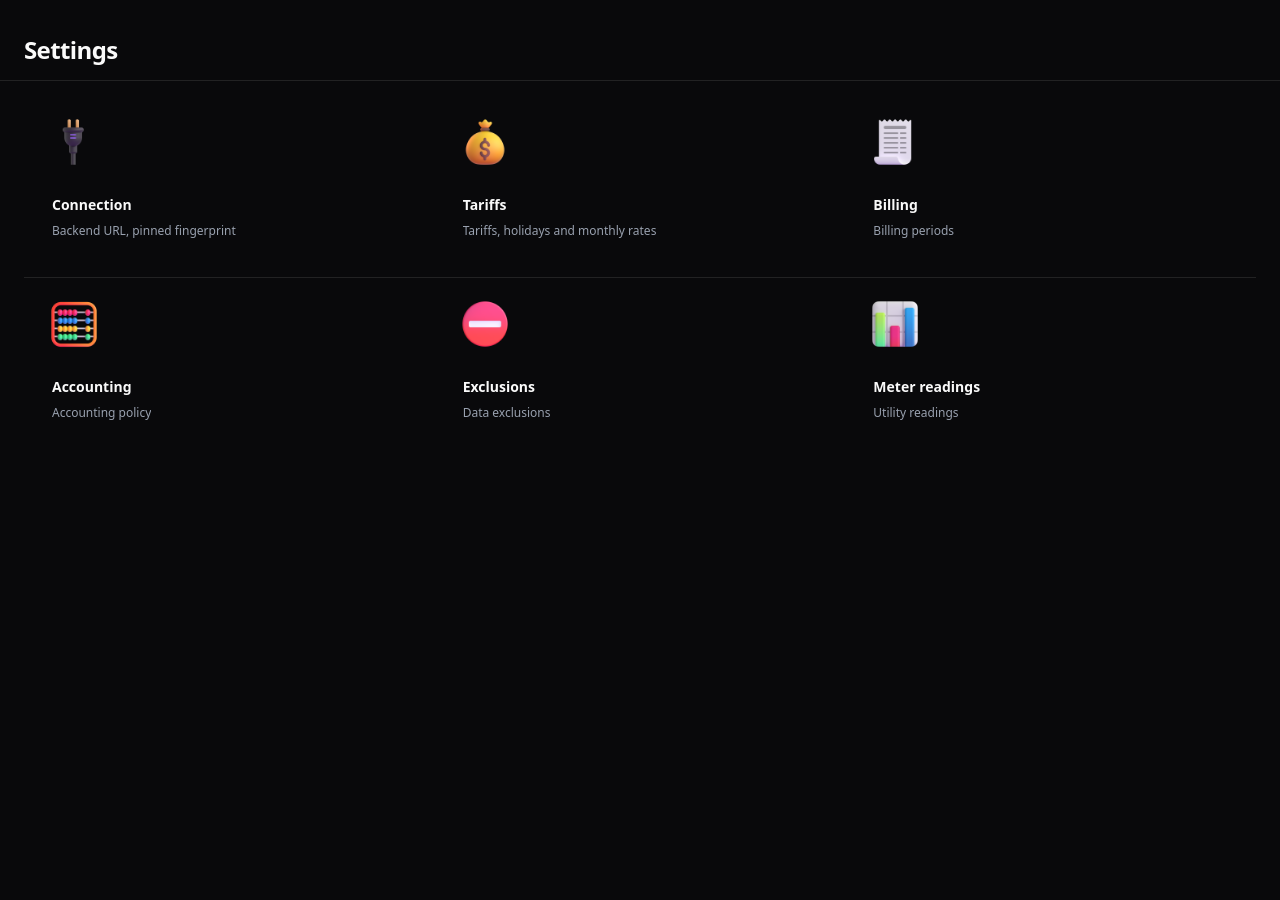
Test: Settings mutation visibility › shows the real {} mutations for ADMIN
Click the button "Exclusions Data exclusions" at (485, 324), box [435,278,845,459]
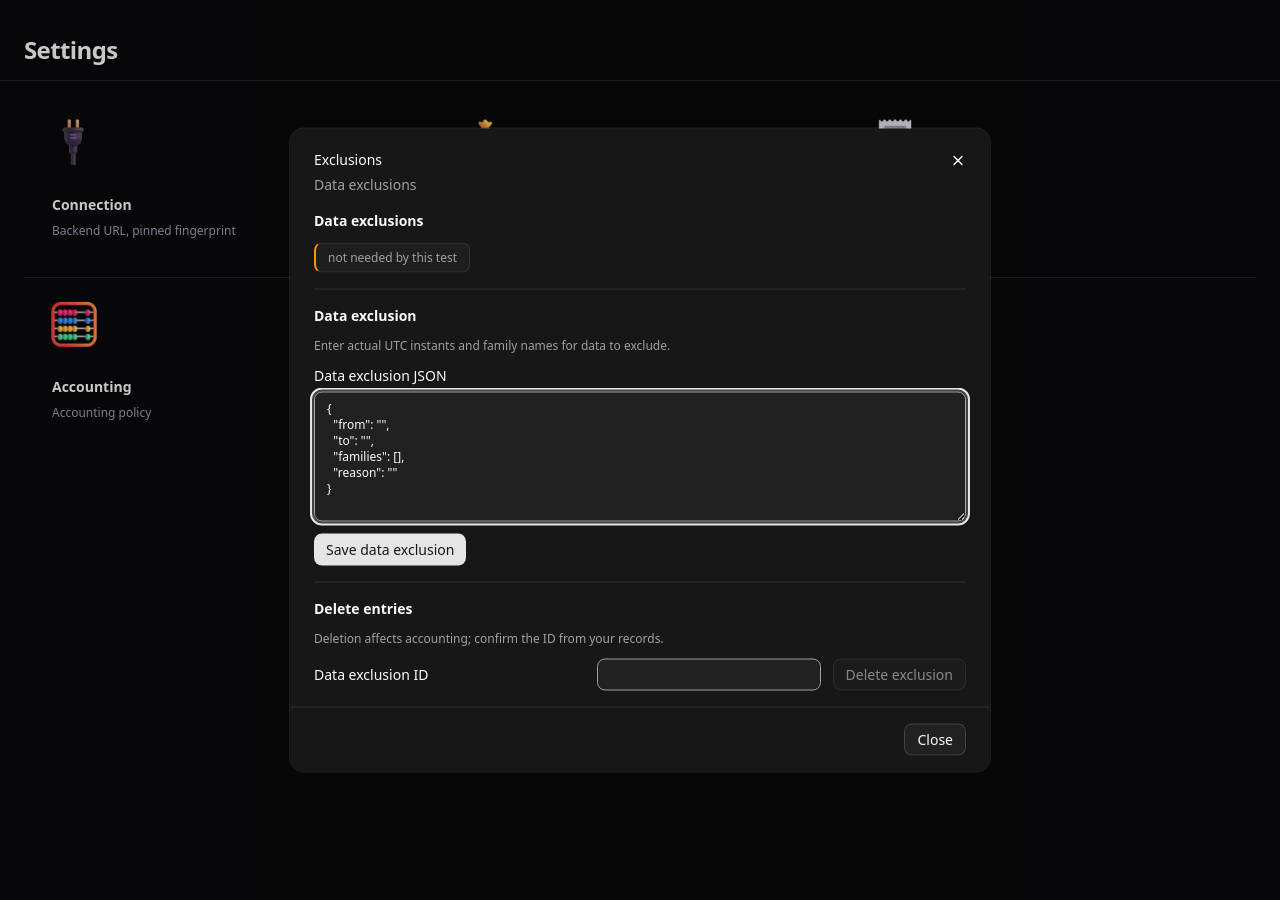
Check: the dialog is shown, box [290,128,990,772]
